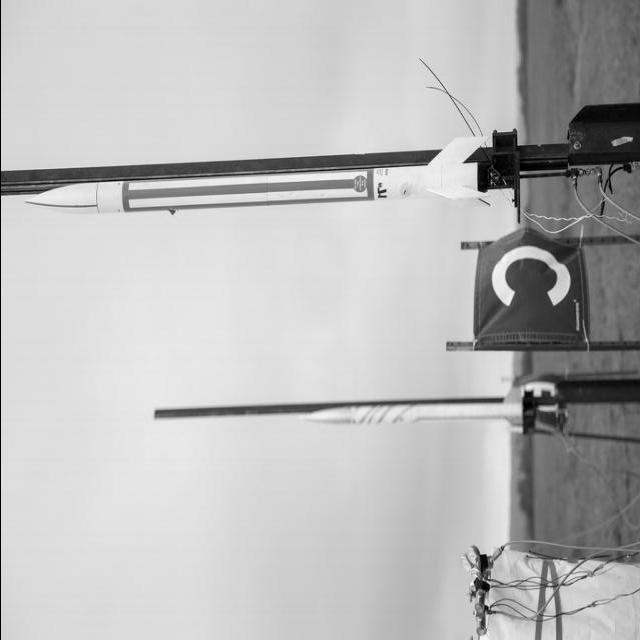missile: (26, 162, 477, 228), (303, 395, 521, 430)
